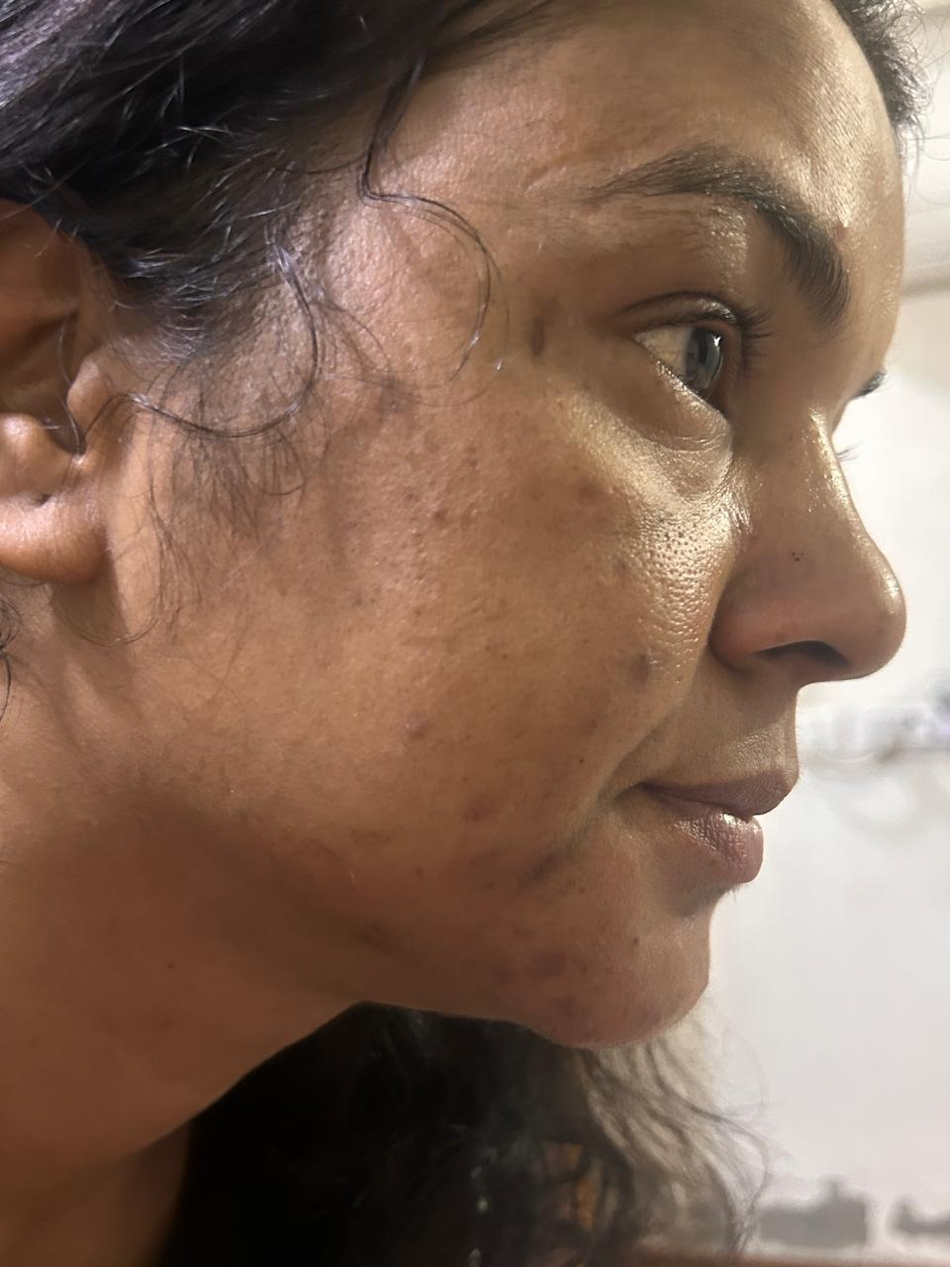closed_comedone: (404, 517, 433, 549)
papule: (830, 200, 861, 249)
